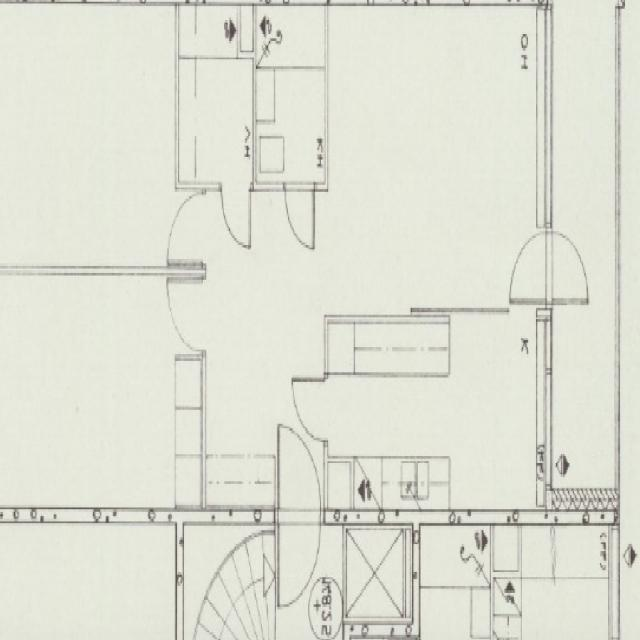door: (278, 510, 321, 608), (278, 426, 321, 524), (545, 231, 589, 303), (509, 231, 552, 303), (166, 279, 206, 351), (167, 192, 206, 262), (292, 378, 328, 441), (221, 183, 251, 249), (286, 183, 314, 248)
